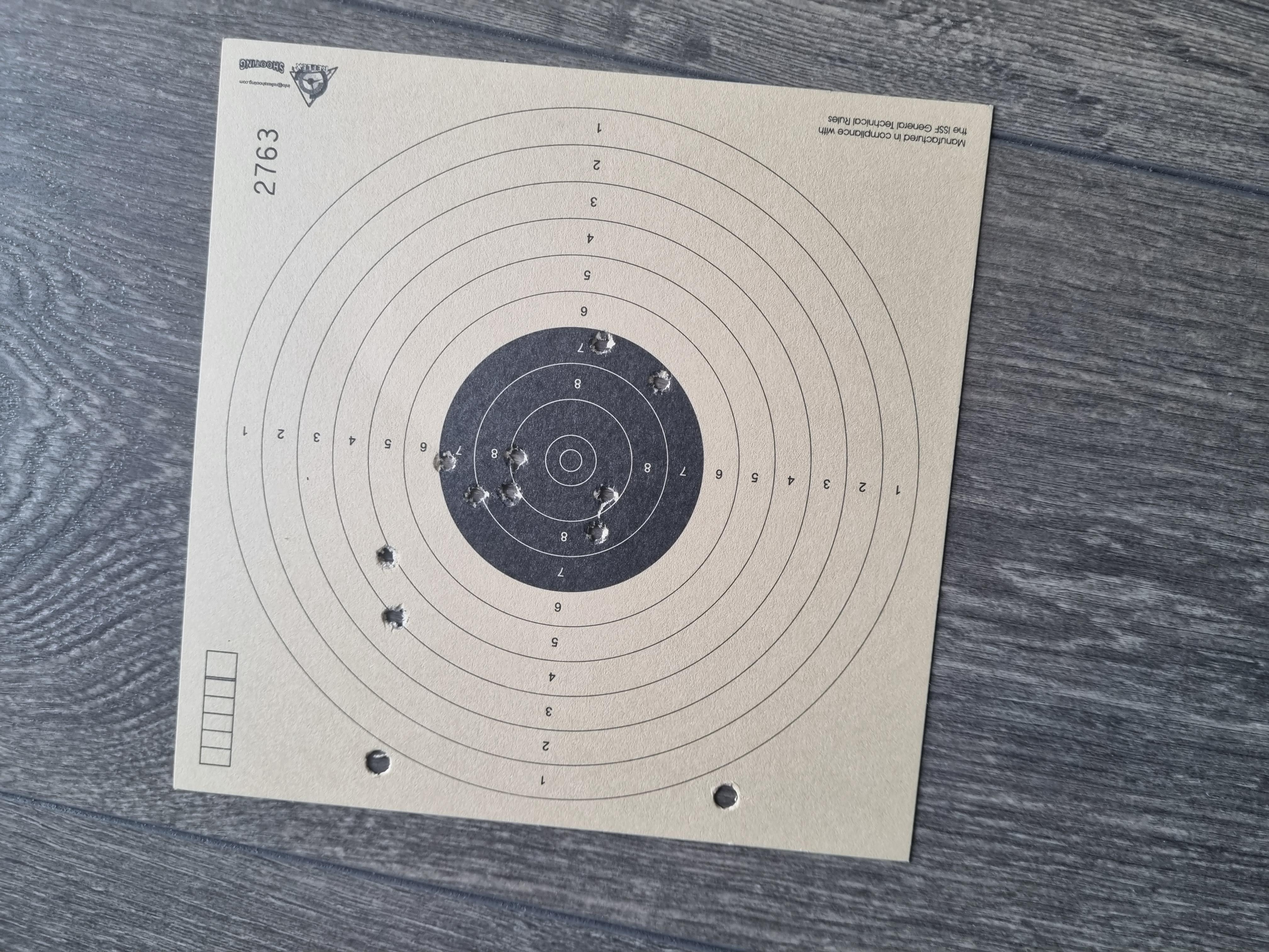hole: (579, 445, 623, 464), (640, 377, 676, 397), (427, 286, 464, 305), (593, 372, 627, 392), (796, 442, 828, 462), (508, 281, 543, 299), (541, 438, 574, 457), (591, 348, 622, 368), (742, 486, 776, 504), (638, 324, 668, 342)
